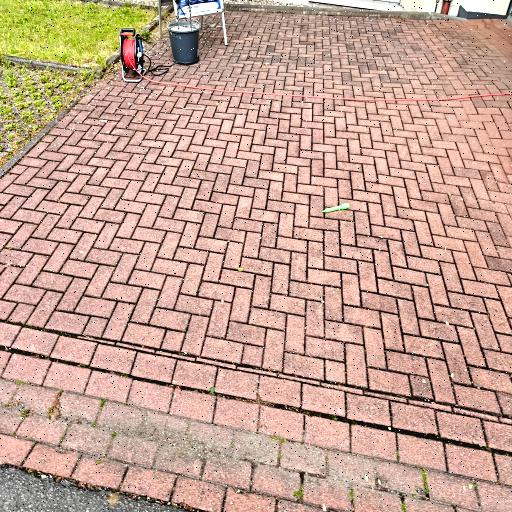Probe-Detection: (322, 202, 350, 213)
